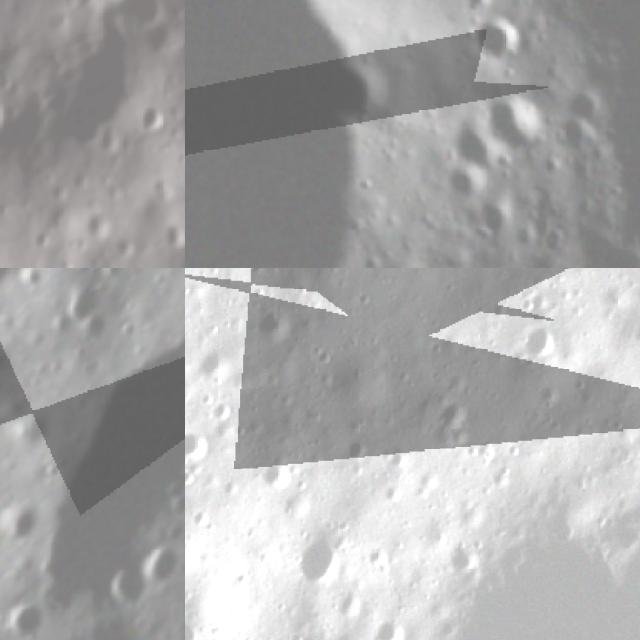crater: (405, 508, 640, 640), (45, 22, 142, 153), (45, 268, 125, 338), (93, 549, 167, 621), (324, 348, 390, 418), (0, 393, 65, 459), (291, 528, 351, 595), (131, 525, 185, 598), (0, 485, 55, 554), (0, 588, 59, 640), (0, 268, 70, 305), (189, 344, 243, 390), (427, 394, 476, 444), (488, 105, 544, 146), (475, 20, 524, 66), (517, 316, 565, 362), (326, 580, 372, 628), (252, 301, 293, 347), (280, 484, 320, 524), (444, 538, 482, 579), (518, 282, 556, 320), (0, 329, 25, 386), (374, 607, 414, 640), (378, 439, 412, 475), (339, 431, 373, 467), (410, 461, 444, 497), (261, 454, 293, 492), (364, 540, 398, 572), (532, 378, 562, 414), (185, 427, 209, 467), (58, 626, 110, 640), (210, 402, 235, 426), (0, 83, 12, 130), (185, 618, 202, 640), (506, 441, 523, 462)
